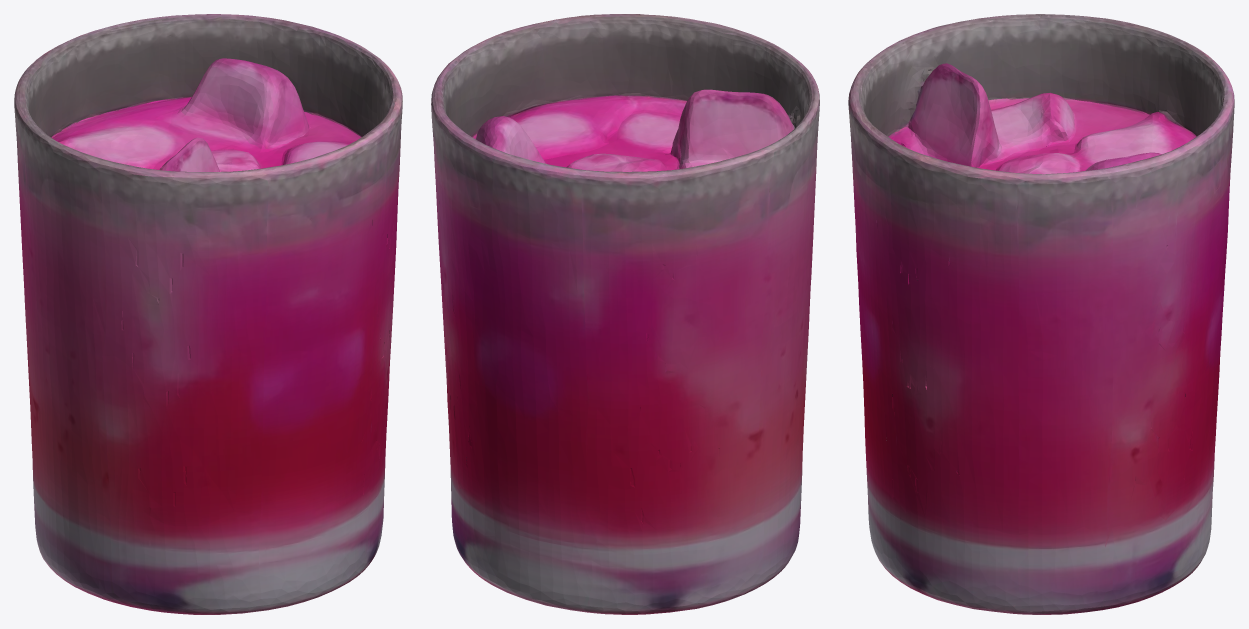
The model's file is p_pearmarg.glb.
3 renders of one model, left to right at view 1: azimuth 30°, elevation 25°; view 2: azimuth 150°, elevation 25°; view 3: azimuth 270°, elevation 25°, orthographic.
Parts seen in each view (by area): view 1: geometry_0; view 2: geometry_0; view 3: geometry_0.
Part boxes in pixels (bbox=[...]): geometry_0: bbox=[14, 14, 402, 614]; geometry_0: bbox=[431, 14, 819, 614]; geometry_0: bbox=[848, 14, 1234, 614].
Size of the model in its own units: 0.7789 by 0.9998 by 0.7725.
Materials: 1 (1 with a texture image).
